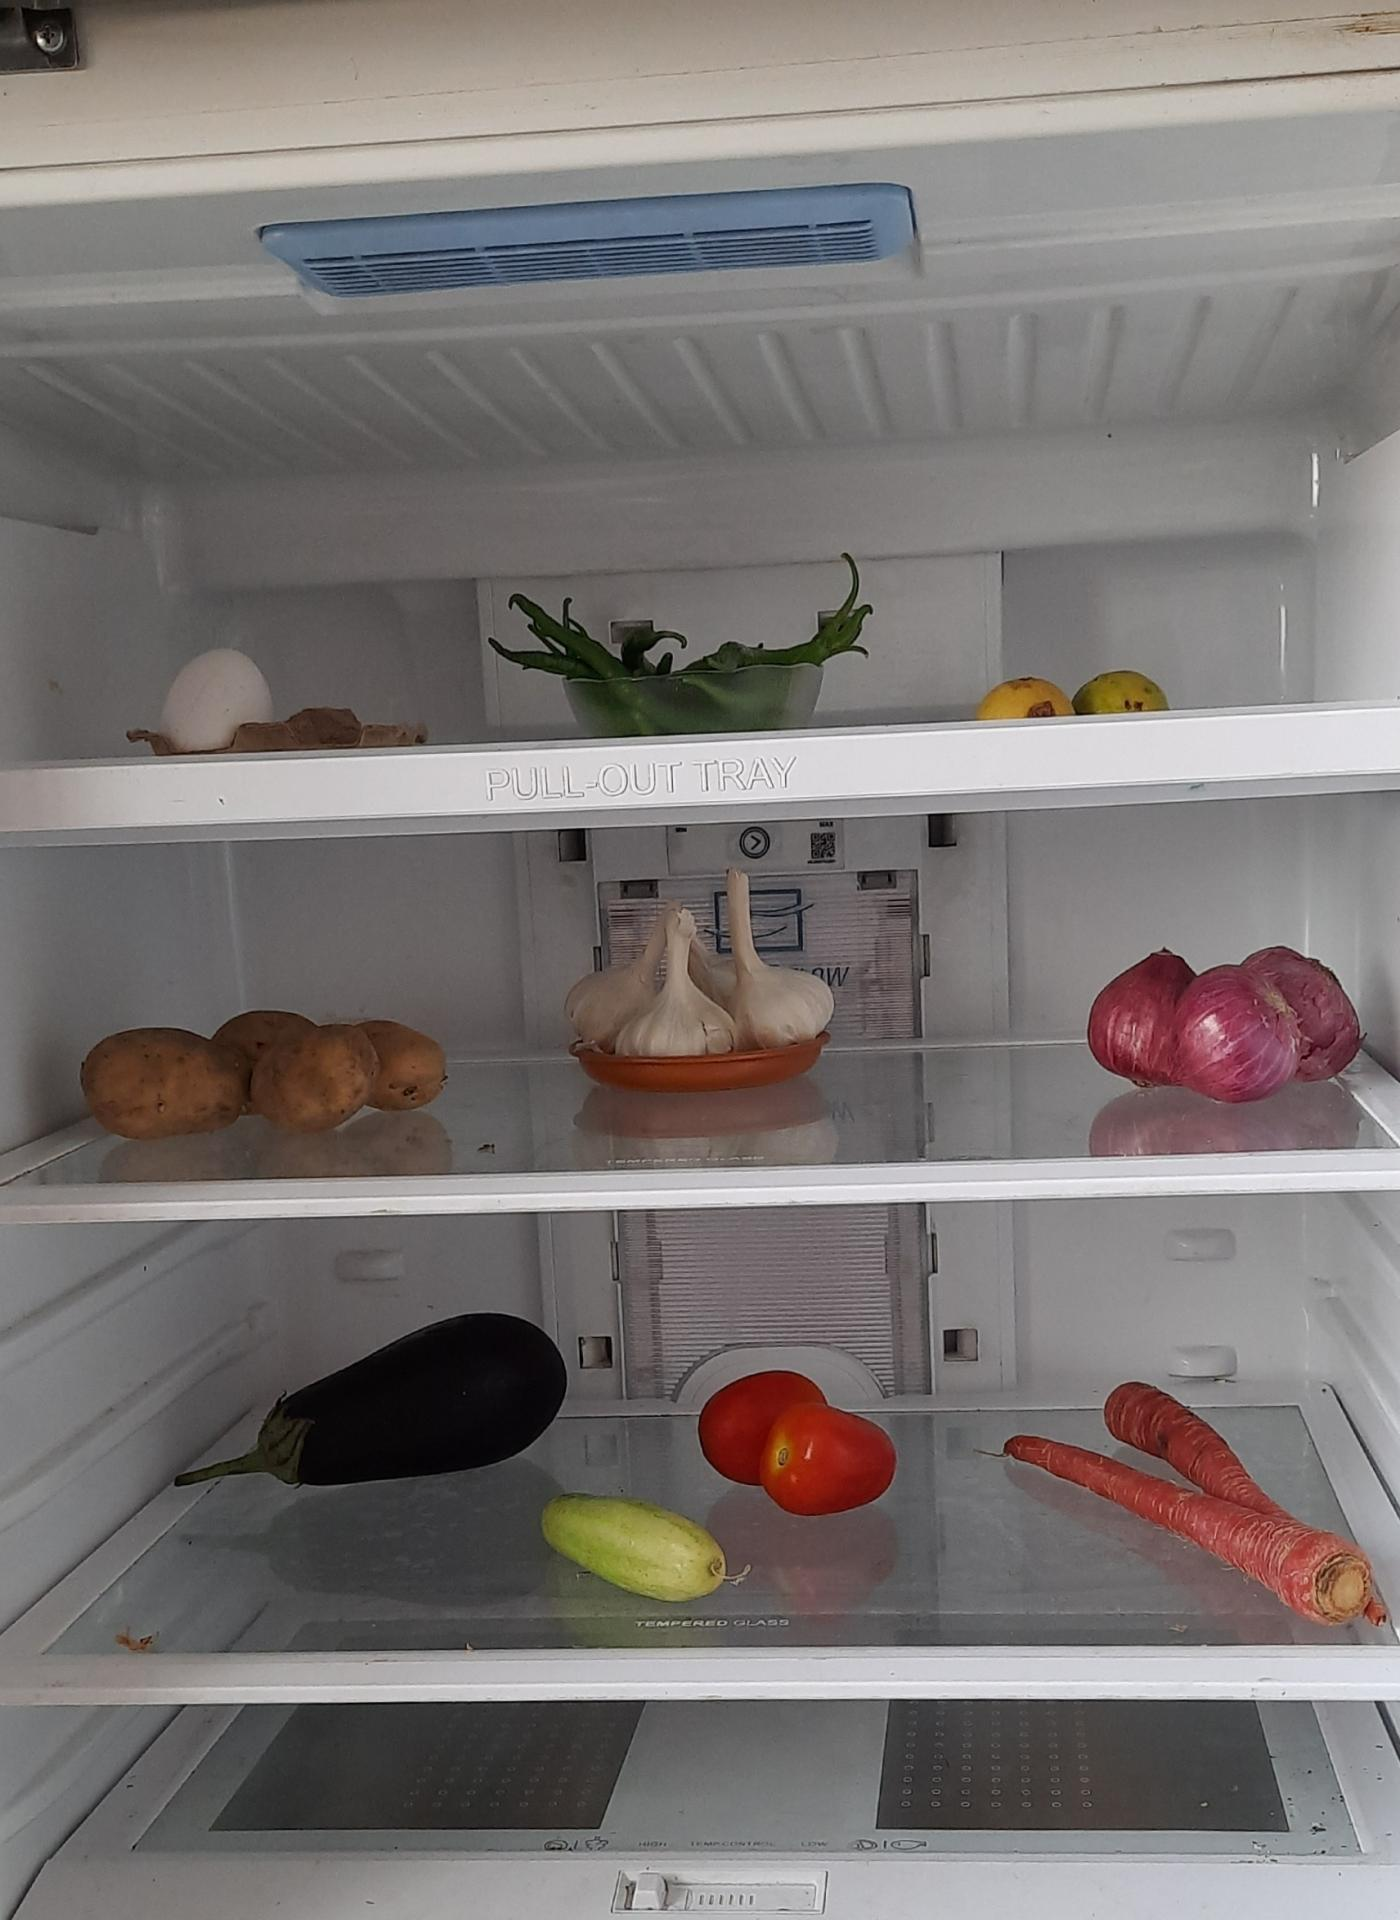brinjal: (164, 1298, 583, 1506)
carrots: (1003, 1394, 1396, 1625)
chillies: (514, 581, 860, 730)
cucumber: (532, 1489, 729, 1600)
egg: (148, 634, 286, 766)
garlic: (571, 890, 839, 1063)
lemon: (971, 668, 1178, 721)
onion: (1093, 936, 1372, 1102)
potato: (79, 1009, 443, 1139)
tomato: (701, 1373, 902, 1515)
